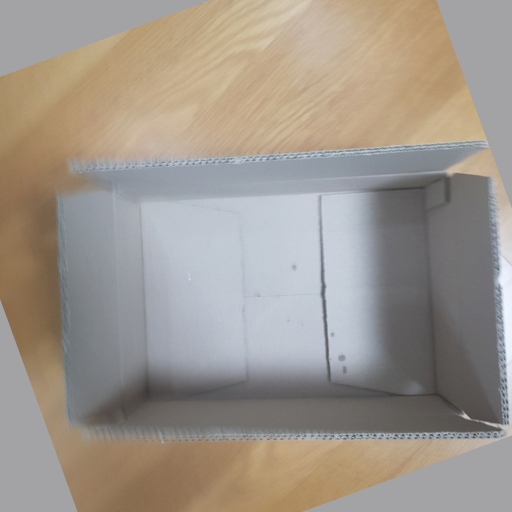Paper_0: (44, 139, 512, 442)
